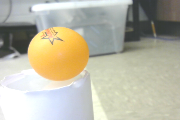PingPongBall: (28, 27, 89, 81)
